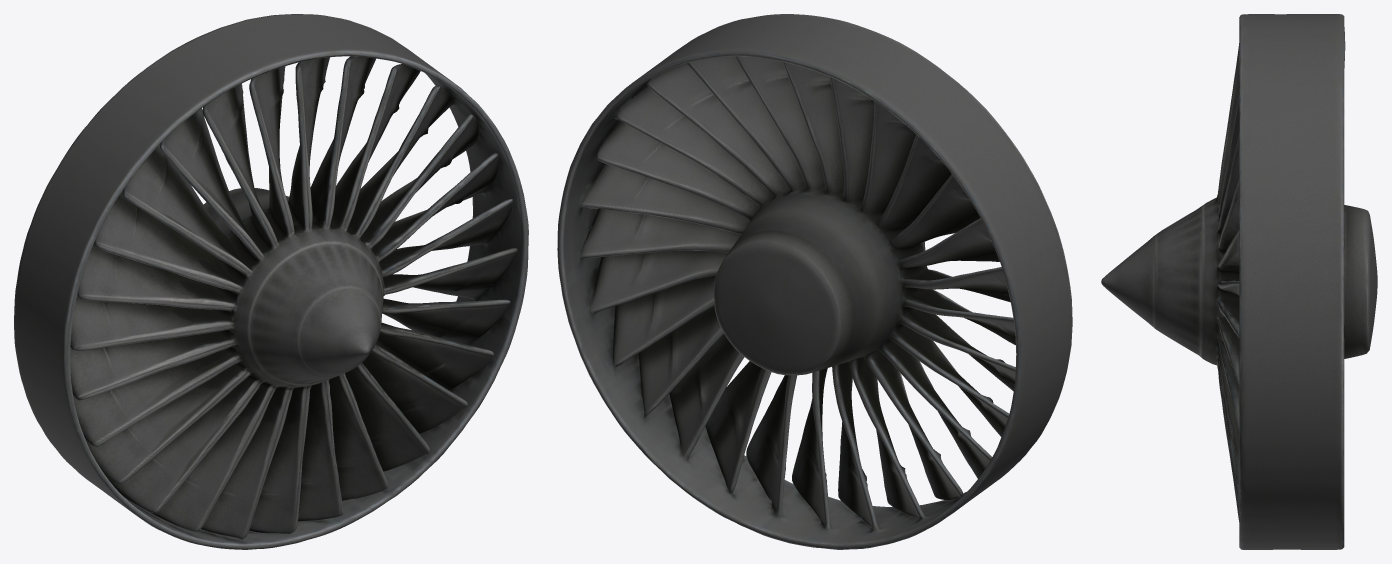
Rendered from tripo_convert_a0448296-3d54-4aad-8bfd-66e0de799525.fbx.
3 renders of one model, left to right at view 1: azimuth 30°, elevation 25°; view 2: azimuth 150°, elevation 25°; view 3: azimuth 270°, elevation 25°, orthographic.
Visible parts, largest first — view 1: tripo_node_a0448296; view 2: tripo_node_a0448296; view 3: tripo_node_a0448296.
Part boxes in pixels (left/top/right/bottom): tripo_node_a0448296: left=14, top=14, right=528, bottom=549; tripo_node_a0448296: left=557, top=14, right=1072, bottom=549; tripo_node_a0448296: left=1101, top=14, right=1377, bottom=549.
Bounding box in the file's own units: 0.979 × 0.9784 × 0.5048.
1 material, 1 textured.
